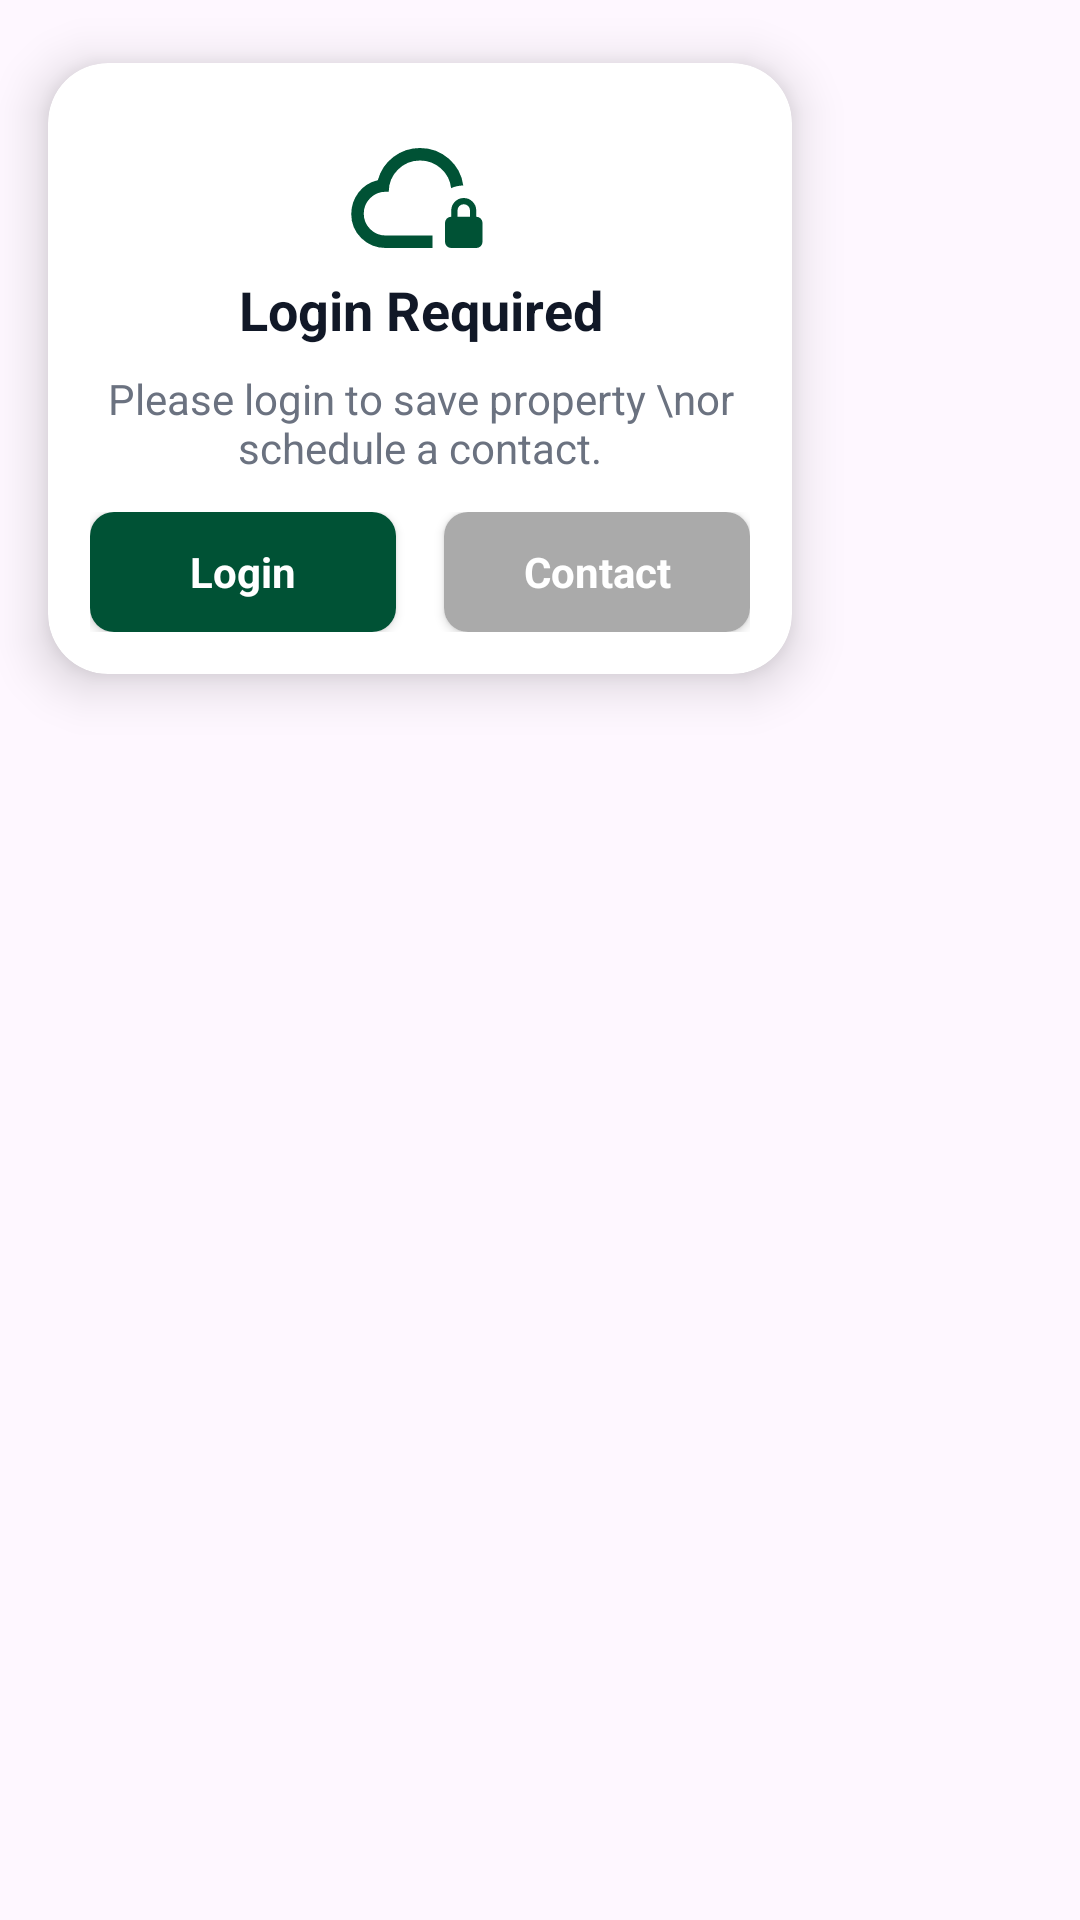

Where icons sit on this 1080 × 1920 app screen, as (x1, y1, x2, y2):
lock: (351, 148, 483, 248)
